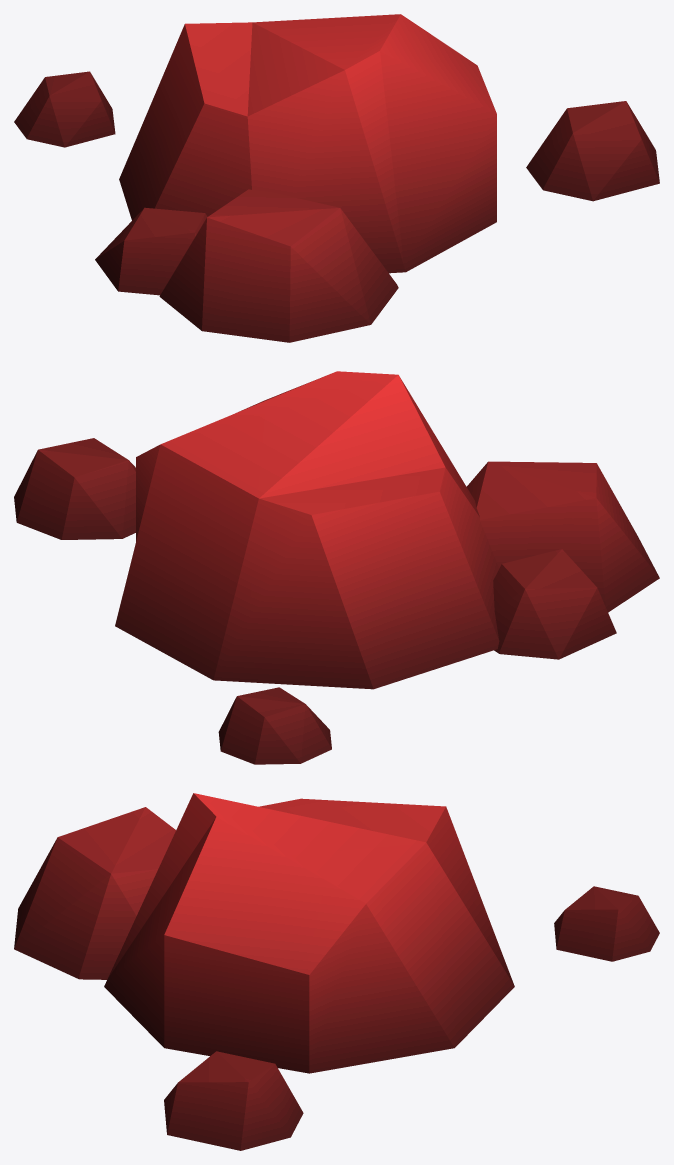
Rendered from PL002_Volcanic06.FBX.
3 renders of one model, top to bottom at view 1: azimuth 30°, elevation 25°; view 2: azimuth 150°, elevation 25°; view 3: azimuth 270°, elevation 25°, orthographic. The views are drawn at different scales.
Parts seen in each view (by area): view 1: PL002_Volcanic06; view 2: PL002_Volcanic06; view 3: PL002_Volcanic06.
Part boxes in pixels (x1,y1,x2,y2): PL002_Volcanic06: [14, 14, 659, 342]; PL002_Volcanic06: [14, 371, 659, 764]; PL002_Volcanic06: [14, 793, 659, 1150].
Size of the model in its own units: 376 by 117 by 365.
1 material, 1 textured.
